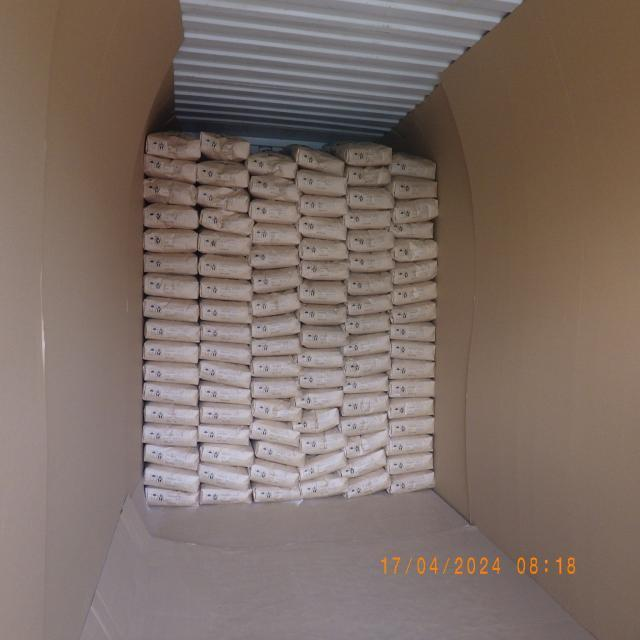gunny_bag: (298, 448, 348, 482), (144, 130, 200, 160), (144, 464, 200, 494), (198, 207, 254, 236), (295, 168, 349, 198), (332, 140, 392, 167), (199, 130, 249, 162), (143, 443, 200, 471), (197, 160, 250, 190), (143, 202, 199, 230), (198, 361, 252, 390), (294, 147, 346, 177), (143, 178, 198, 206), (144, 157, 199, 185), (143, 297, 200, 324), (297, 428, 348, 458), (250, 174, 304, 202), (252, 440, 306, 468), (250, 458, 300, 488), (198, 464, 251, 492), (142, 380, 199, 406), (250, 290, 301, 319), (198, 254, 252, 281), (200, 299, 254, 326), (196, 185, 250, 212), (142, 228, 198, 254), (143, 274, 199, 300), (252, 266, 304, 294), (200, 442, 256, 468), (298, 473, 350, 501), (342, 448, 387, 480), (250, 418, 301, 446), (199, 277, 253, 303), (198, 230, 252, 256), (250, 398, 304, 424), (246, 153, 298, 180), (142, 422, 198, 447), (144, 403, 200, 428), (345, 468, 390, 499), (346, 429, 392, 459), (200, 340, 253, 366), (200, 380, 253, 406), (143, 360, 200, 384), (297, 278, 349, 304), (250, 198, 302, 224), (250, 313, 302, 339), (200, 402, 254, 427), (143, 340, 199, 364), (144, 318, 200, 342), (144, 484, 200, 508), (296, 217, 348, 242), (248, 244, 300, 269), (292, 407, 340, 434), (144, 253, 198, 277), (392, 199, 439, 226), (391, 260, 438, 287), (338, 412, 388, 437), (298, 238, 348, 263), (344, 229, 394, 254), (251, 222, 303, 246), (298, 326, 350, 350), (296, 194, 348, 218), (250, 354, 302, 378), (198, 422, 250, 446), (347, 185, 396, 210), (346, 271, 395, 296), (342, 333, 391, 358), (388, 175, 439, 199), (390, 154, 437, 180), (389, 470, 436, 496), (200, 321, 253, 344), (386, 452, 434, 477), (388, 398, 436, 423), (344, 352, 390, 378), (252, 376, 304, 399), (292, 387, 344, 410), (250, 335, 302, 358), (296, 303, 348, 326), (341, 391, 388, 416), (390, 280, 438, 304), (390, 301, 438, 325), (346, 294, 394, 318), (298, 260, 350, 282), (392, 238, 439, 262), (344, 208, 395, 230), (348, 252, 396, 275), (340, 312, 390, 334), (346, 165, 393, 188), (389, 415, 436, 438), (298, 368, 347, 390), (200, 484, 253, 504), (342, 374, 390, 396), (389, 320, 436, 342), (295, 348, 345, 368), (252, 483, 302, 503), (389, 377, 436, 398), (390, 340, 436, 361), (387, 436, 434, 456), (390, 358, 436, 378), (390, 222, 436, 240)
